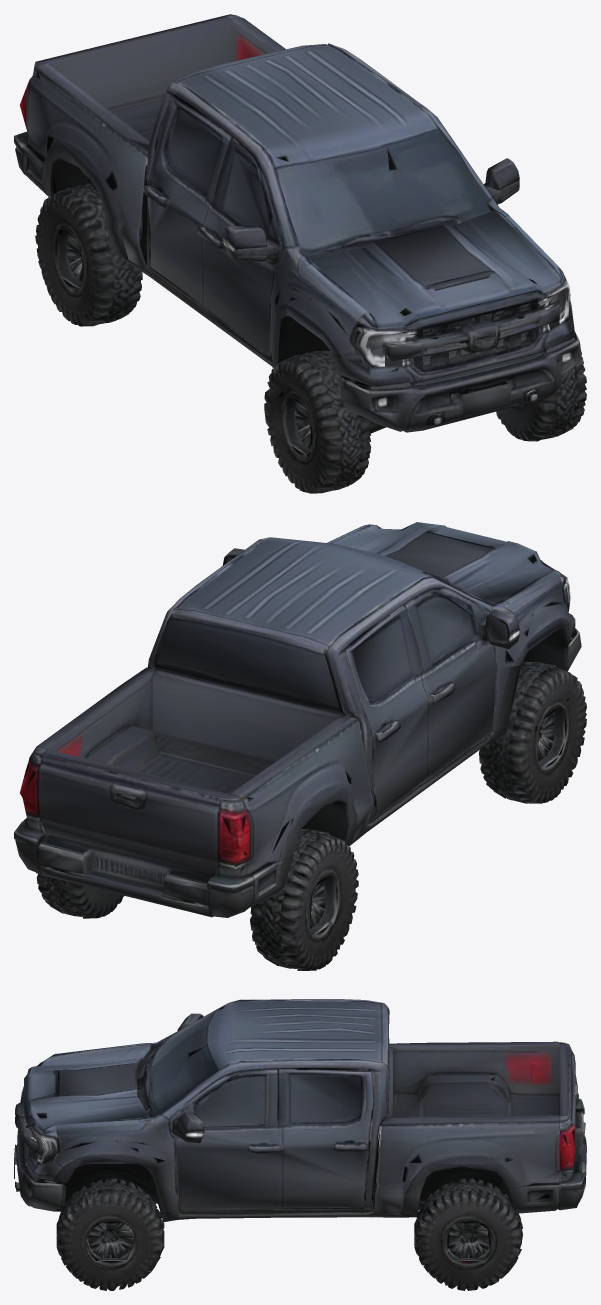
File: lifted-pickup.glb
3 views of the same model, one above another, from view 1: azimuth 30°, elevation 25°; view 2: azimuth 150°, elevation 25°; view 3: azimuth 270°, elevation 25° (orthographic). The views are drawn at different scales.
Parts seen in each view (by area): view 1: tripo_node_d0778735-46c7-4e28-871d-c0bfbbaa3314; view 2: tripo_node_d0778735-46c7-4e28-871d-c0bfbbaa3314; view 3: tripo_node_d0778735-46c7-4e28-871d-c0bfbbaa3314.
Boxes of the visible parts, <box> form: tripo_node_d0778735-46c7-4e28-871d-c0bfbbaa3314: <box>14,14,586,493</box>; tripo_node_d0778735-46c7-4e28-871d-c0bfbbaa3314: <box>14,522,586,970</box>; tripo_node_d0778735-46c7-4e28-871d-c0bfbbaa3314: <box>14,999,586,1290</box>.
Size of the model in its own units: 0.4438 by 0.413 by 0.9818.
Materials: 1 (1 with a texture image).
